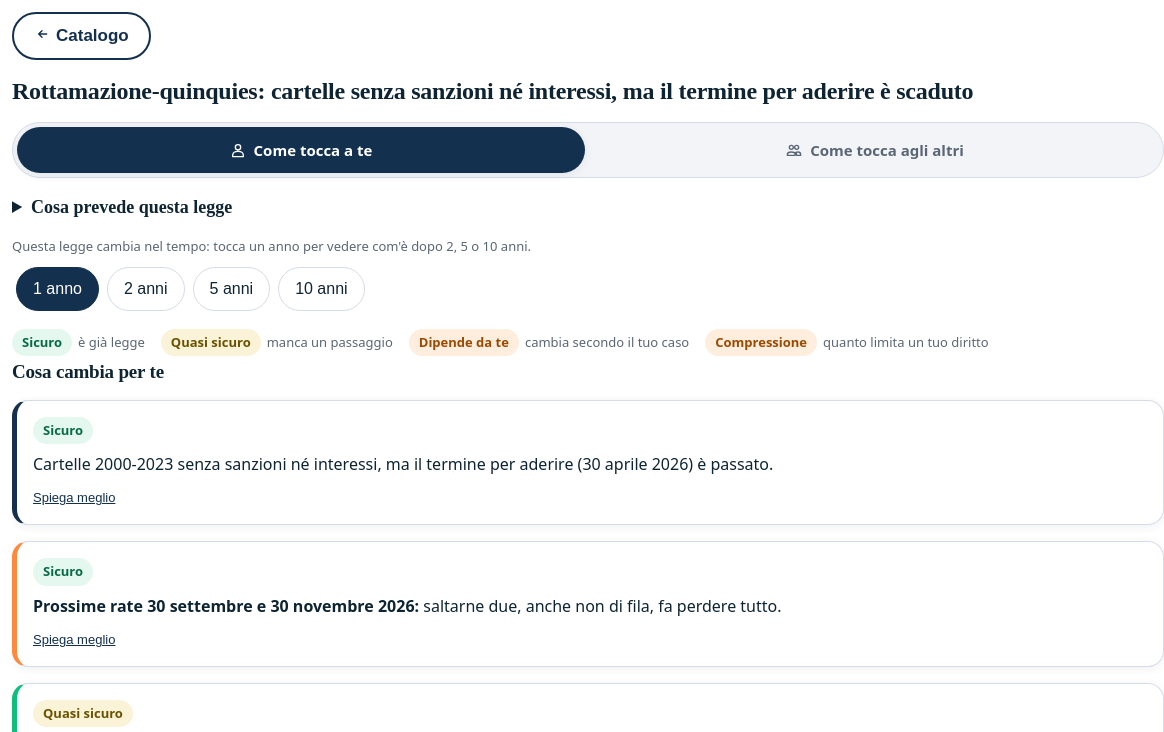
effetto già finito nell'orizzonte scelto: mostrato come non più valido
Expected: the text "non vale più" is not shown
Click the button "2 anni": (146, 289) [107, 267, 184, 311]
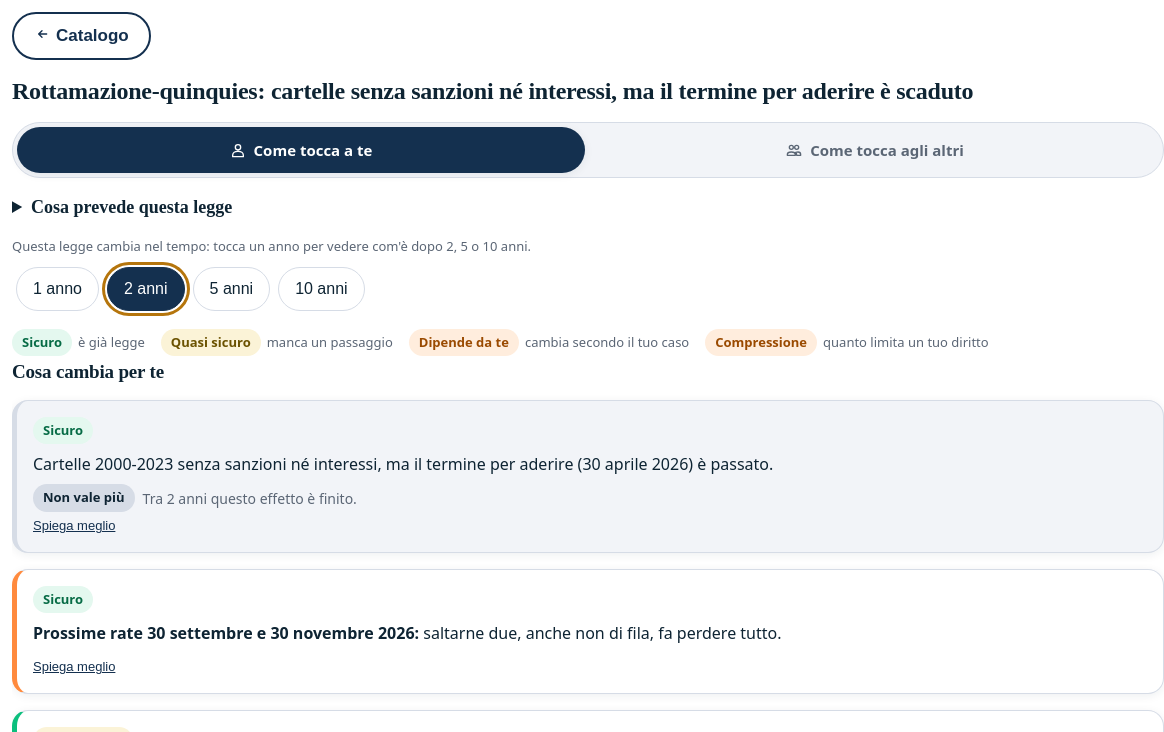
Result: the text "Non vale più" is shown at [33, 484, 135, 512]
Result: the text "Non vale più Tra 2 anni questo effetto è finito." is shown at [33, 484, 357, 512]
